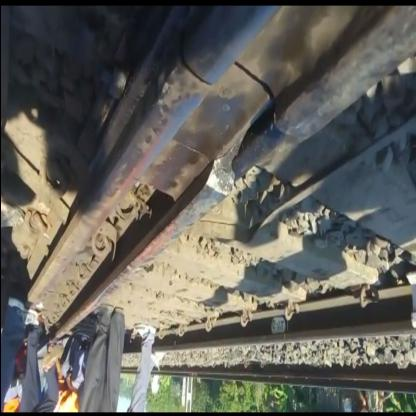Defective: (29, 1, 345, 282)
